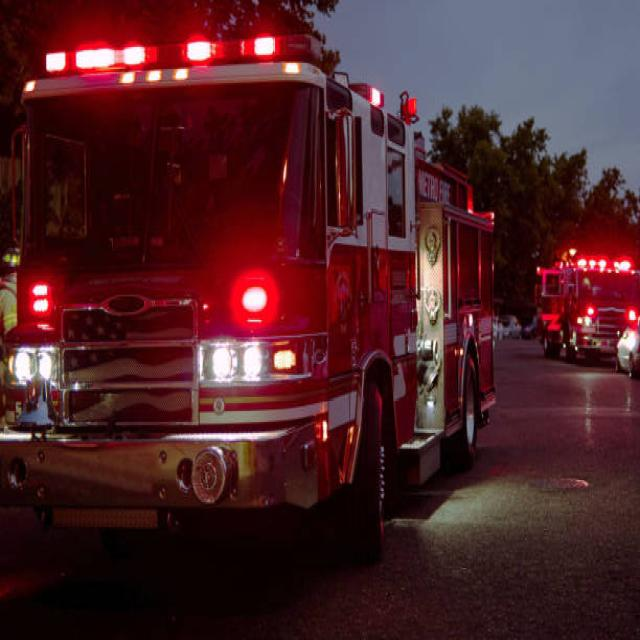emergency: (0, 38, 495, 559)
